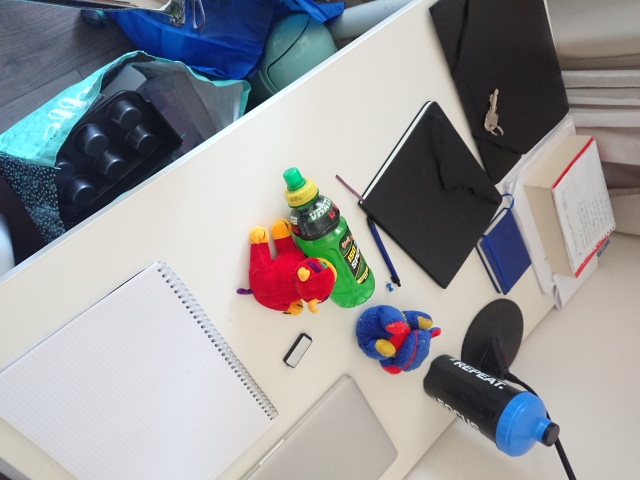Vindi Iso Sport Lemon-Grapefruit 500mL: (281, 166, 377, 310)
